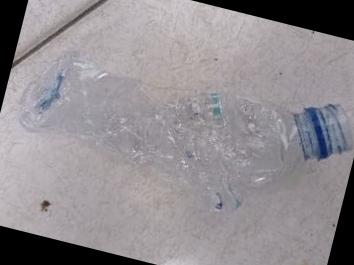Plastik: (18, 52, 351, 211)
